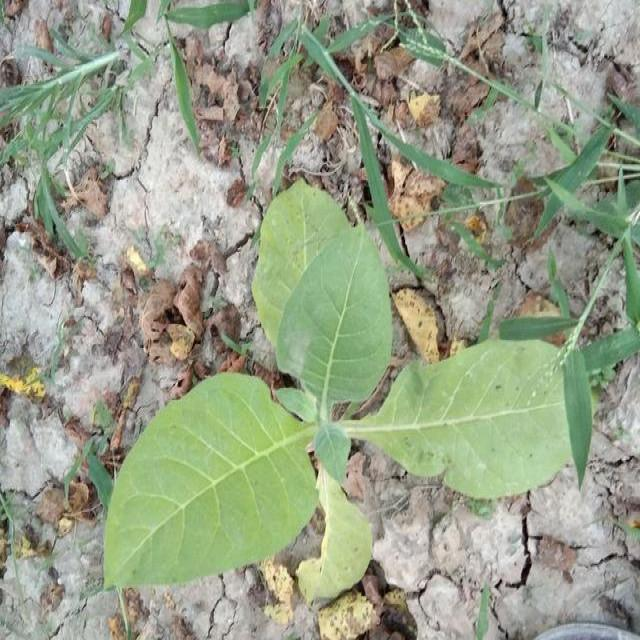crop: (111, 179, 584, 605)
